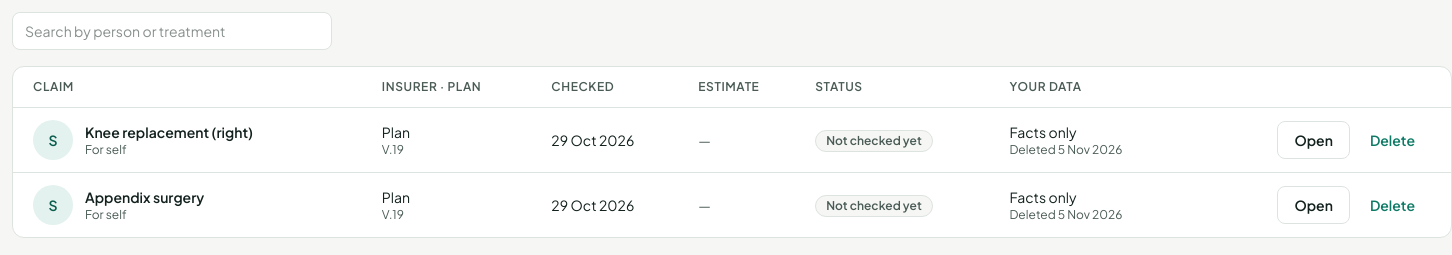
Test case: ClaimsTable › TC-UI-16 searches in the browser, never through the URL
Type "knee" into the search field labelled "Search by person or treatment" at (172,31), box top-left (12, 12), bottom-right (332, 50)
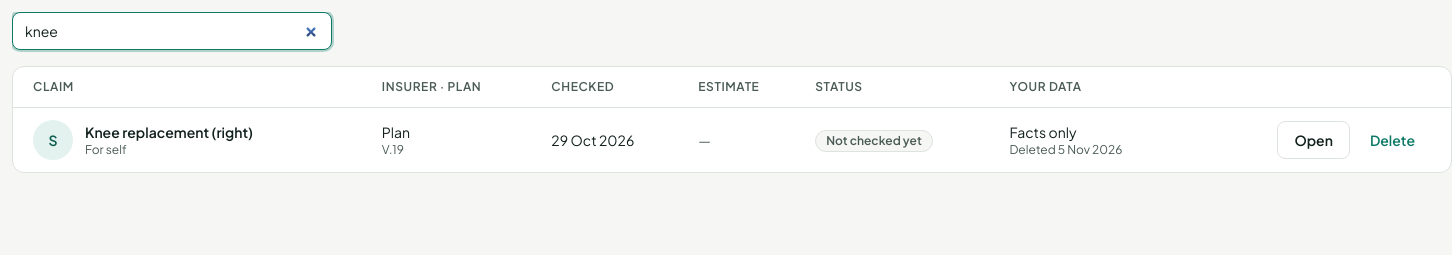
Expected: the text "Knee replacement (right)" is shown, top-left (85, 122), bottom-right (253, 142)
Result: the text "Appendix surgery" is gone
